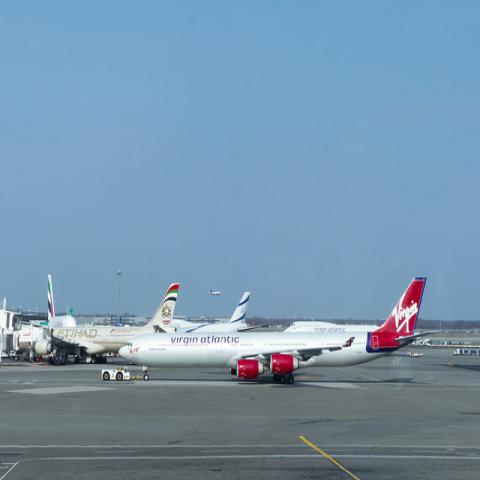truck: (102, 368, 131, 380)
